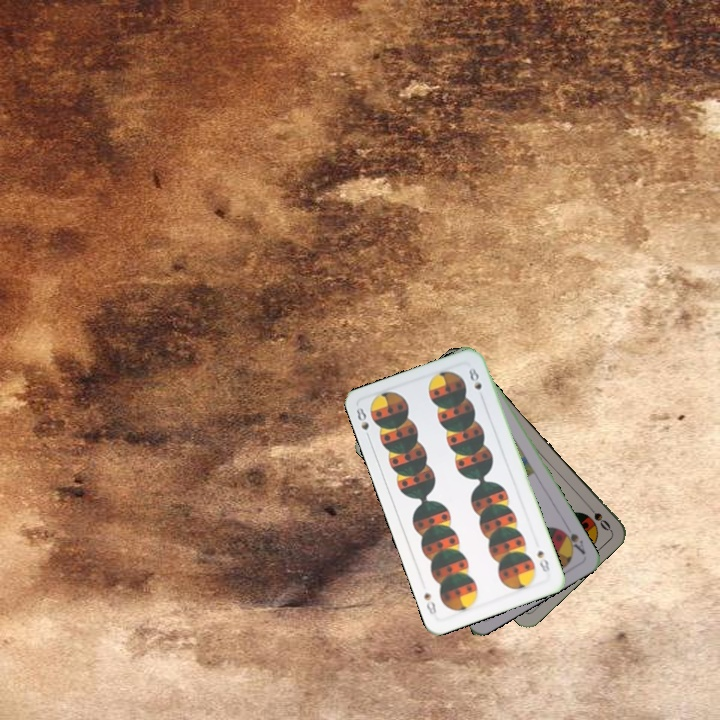S8: (352, 403, 373, 443), (533, 546, 552, 574)
SA: (557, 521, 588, 557)
SO: (582, 499, 613, 534)
